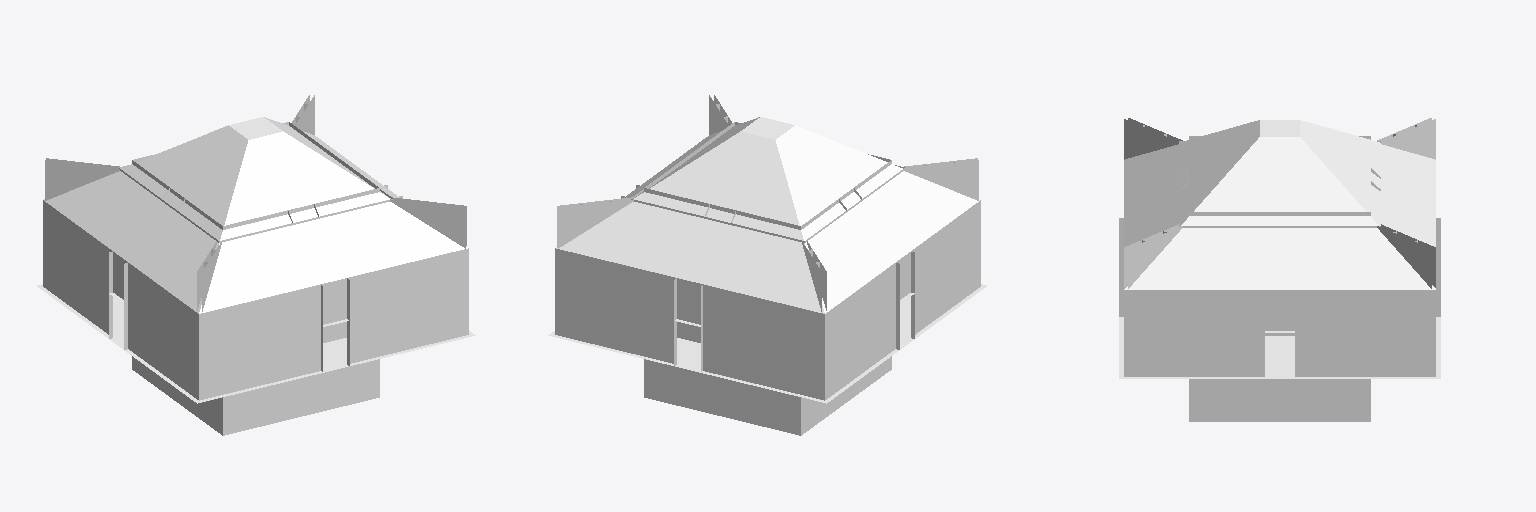
File: HC_cont4_009.obj
3 renders of one model, left to right at view 1: azimuth 30°, elevation 25°; view 2: azimuth 150°, elevation 25°; view 3: azimuth 270°, elevation 25°, orthographic.
Parts seen in each view (by area): view 1: room009; view 2: room009; view 3: room009.
Boxes of the visible parts, x1,y1,x2,y2 form: room009: [37, 95, 475, 435]; room009: [548, 95, 986, 435]; room009: [1119, 118, 1440, 421].
Size of the model in its own units: 20.48 by 17.92 by 20.48.